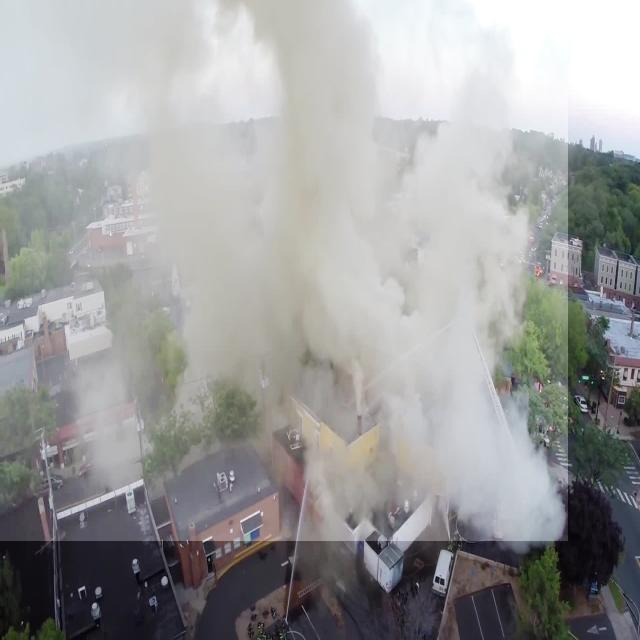Smoke: (0, 0, 568, 541)
